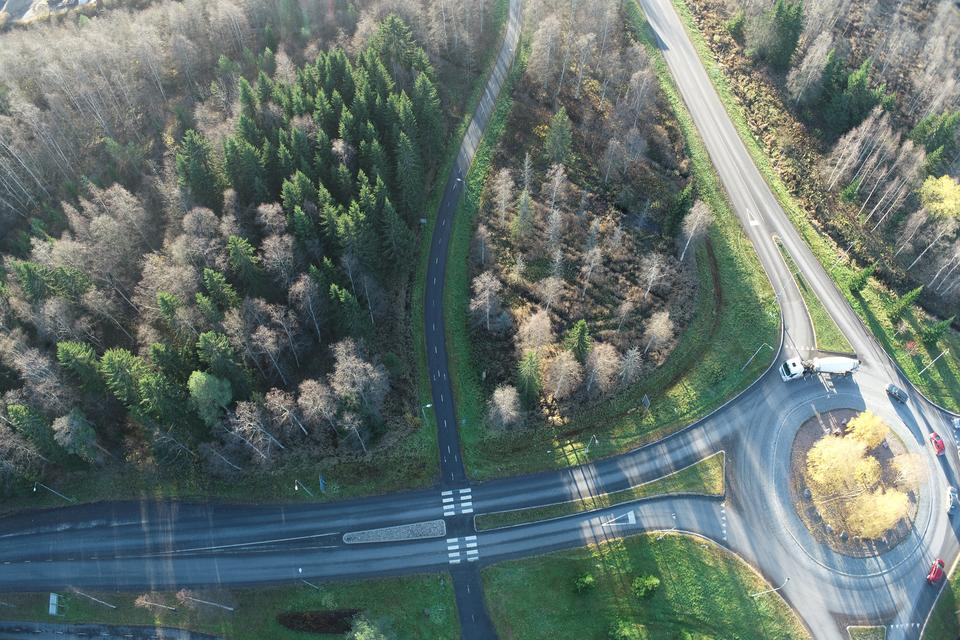intersection: (421, 450, 510, 595)
roundabout: (654, 306, 960, 640)
